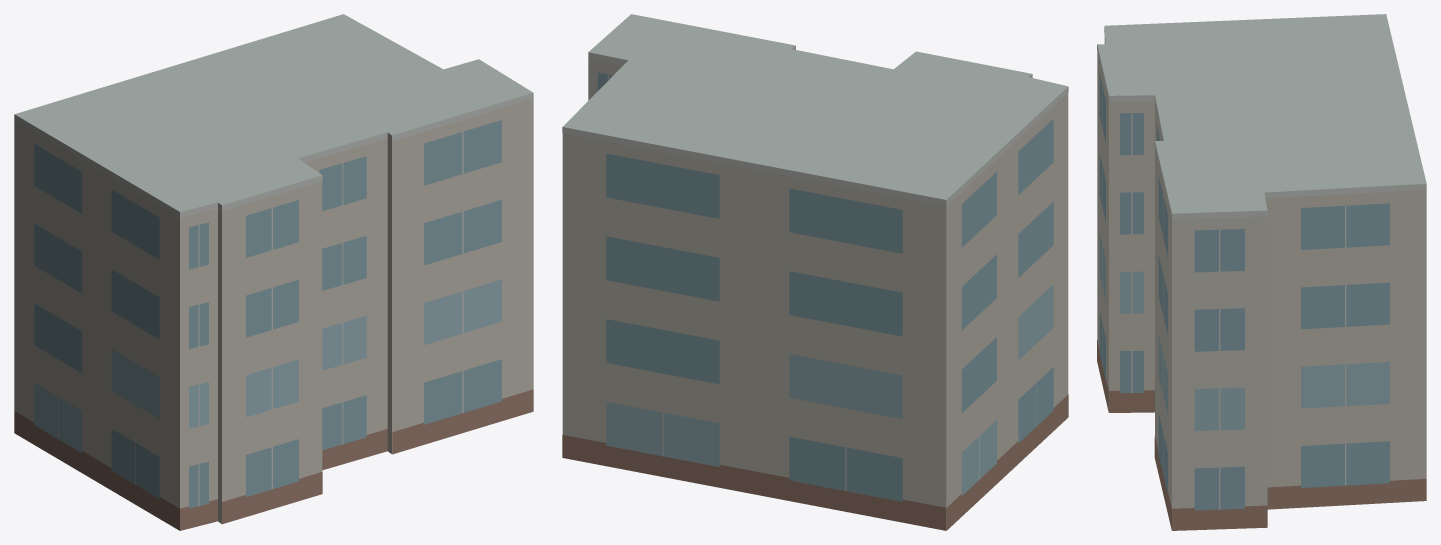
File: survey-upis-32618671.glb
3 views of the same model, side by side, from view 1: azimuth 30°, elevation 25°; view 2: azimuth 150°, elevation 25°; view 3: azimuth 270°, elevation 25° (orthographic). The views are drawn at different scales.
Visible parts, largest first — view 1: survey-upis-32618671.tmp; view 2: survey-upis-32618671.tmp; view 3: survey-upis-32618671.tmp.
Part boxes in pixels (left/top/right/bottom): survey-upis-32618671.tmp: left=14, top=14, right=533, bottom=530; survey-upis-32618671.tmp: left=562, top=14, right=1068, bottom=530; survey-upis-32618671.tmp: left=1097, top=14, right=1426, bottom=530.
Size of the model in its own units: 17.43 by 12.9 by 12.16.
